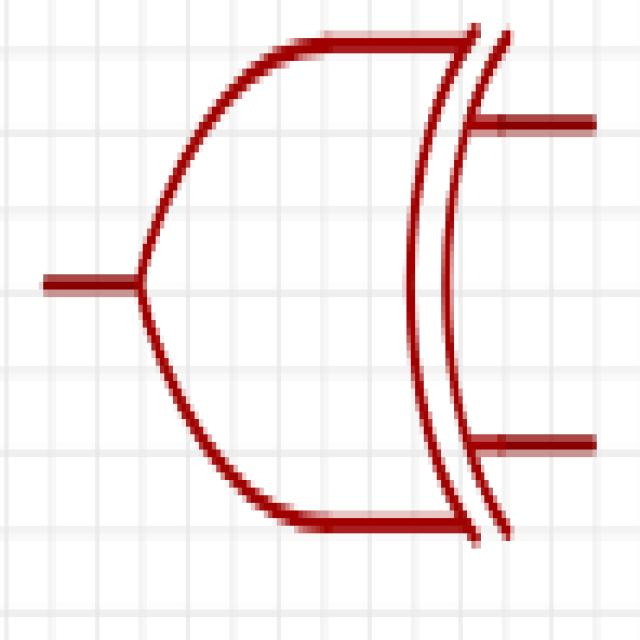xor: (33, 26, 594, 569)
